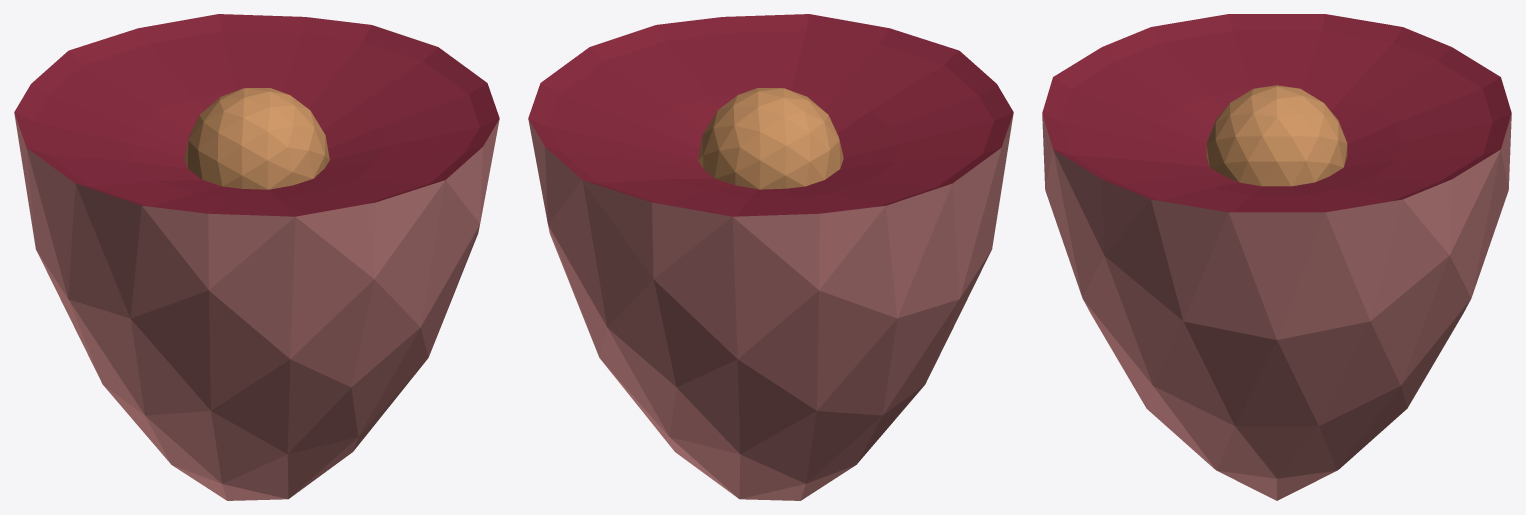
Rendered from Flora1_Size2.fbx.
3 views of the same model, side by side, from view 1: azimuth 30°, elevation 25°; view 2: azimuth 150°, elevation 25°; view 3: azimuth 270°, elevation 25° (orthographic).
Parts seen in each view (by area): view 1: Flora1, Inner, Center; view 2: Flora1, Inner, Center; view 3: Flora1, Inner, Center.
Part boxes in pixels (x1,y1,x2,y2): Flora1: (14,113,499,500); Inner: (14,14,499,216); Center: (184,88,329,189); Flora1: (528,113,1013,500); Inner: (528,14,1013,216); Center: (698,88,843,189); Flora1: (1042,114,1511,500); Inner: (1042,14,1511,212); Center: (1206,85,1347,186).
Size of the model in its own units: 88.15 by 81.57 by 88.15.
